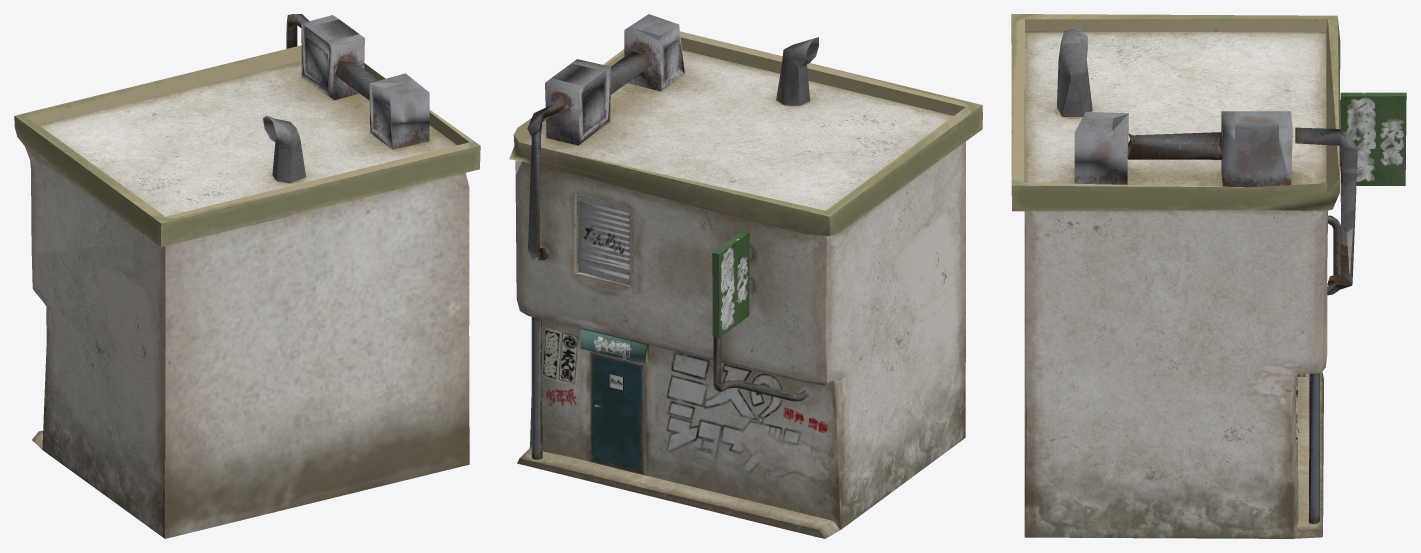
Rendered from techHouse.fbx.
3 views of the same model, side by side, from view 1: azimuth 30°, elevation 25°; view 2: azimuth 150°, elevation 25°; view 3: azimuth 270°, elevation 25° (orthographic). The views are drawn at different scales.
Parts seen in each view (by area): view 1: TechHouse; view 2: TechHouse; view 3: TechHouse.
Boxes of the visible parts, box(x1,y1,x2,y2) form: TechHouse: box(14, 14, 480, 538); TechHouse: box(509, 14, 982, 538); TechHouse: box(1011, 14, 1406, 538).
Size of the model in its own units: 168 by 189 by 163.
1 material, 1 textured.
